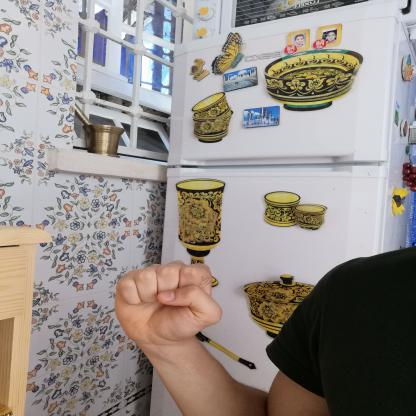SAD: (102, 250, 239, 352)
